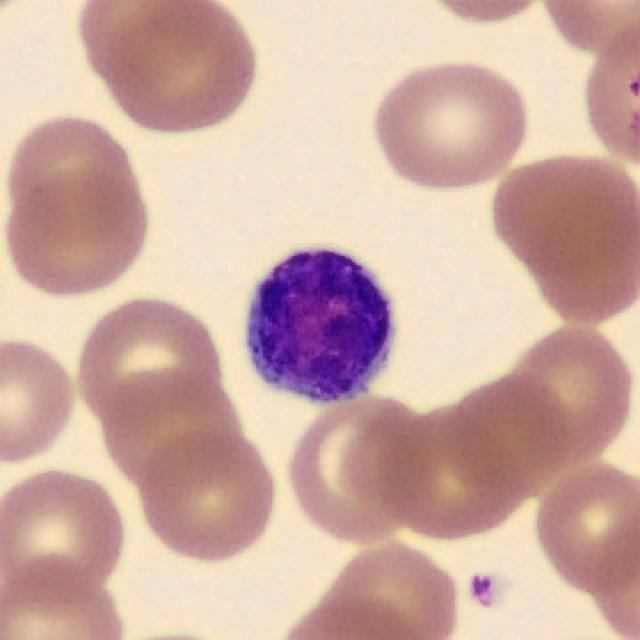Linfocito: (247, 247, 395, 405)
